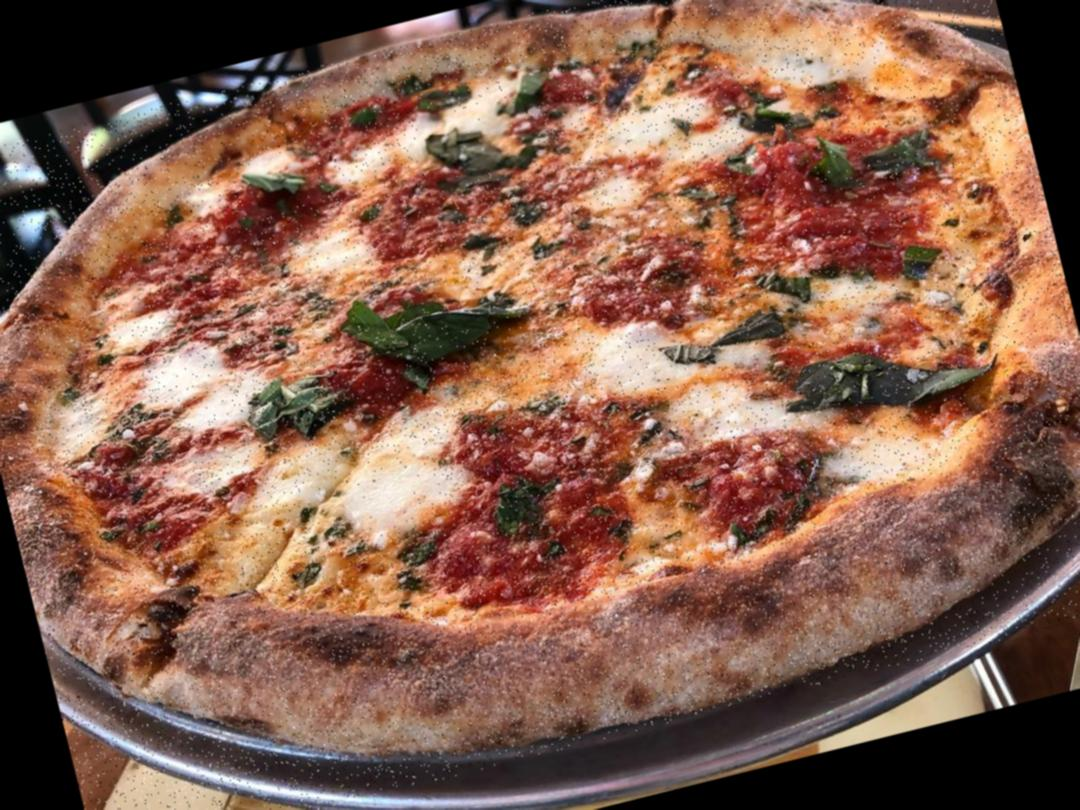Basil: (774, 310, 1008, 446), (338, 264, 534, 386), (656, 304, 806, 386), (415, 96, 536, 191), (244, 365, 355, 450), (480, 462, 558, 540), (793, 123, 863, 205), (238, 150, 322, 218), (854, 120, 941, 185), (736, 89, 826, 150), (410, 75, 493, 122), (890, 229, 954, 289), (500, 58, 554, 112)
Cheese: (302, 444, 443, 542), (593, 318, 684, 404), (154, 352, 236, 434), (299, 232, 366, 285)
Pizza: (0, 0, 1080, 810)
